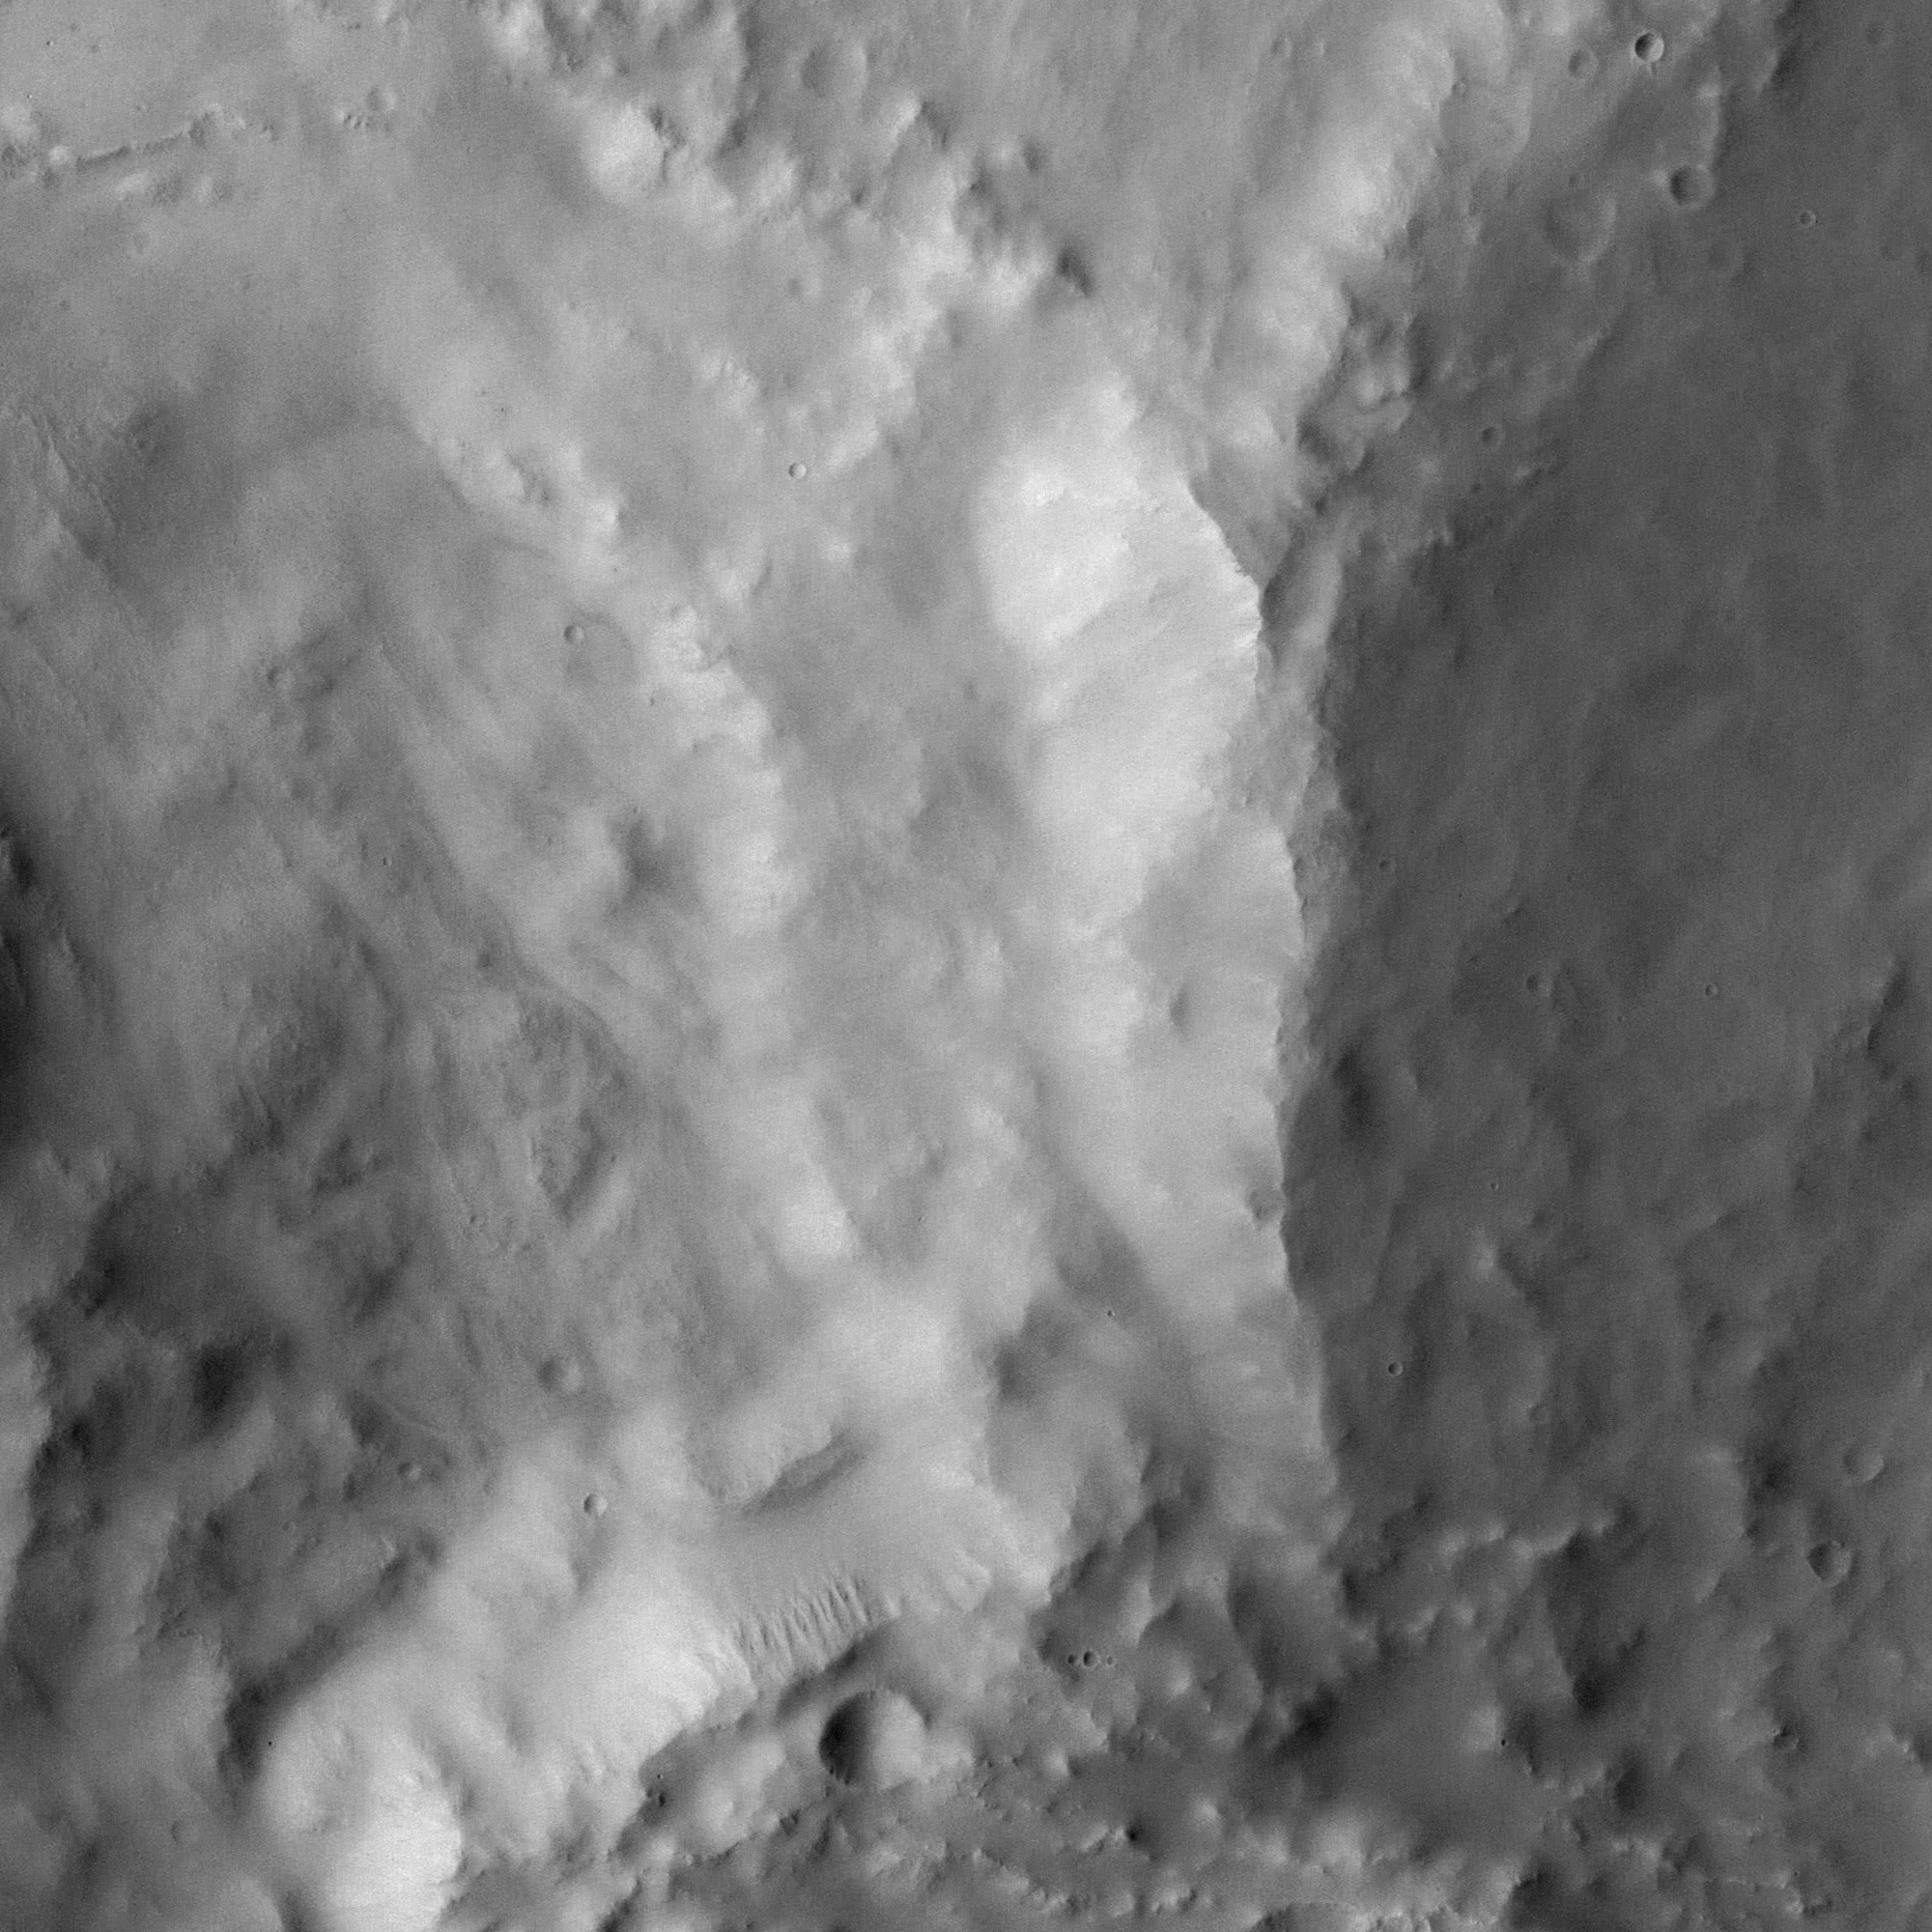crater: (819, 1686, 927, 1794), (1545, 188, 1612, 257), (801, 39, 865, 103), (1808, 1539, 1854, 1587), (186, 108, 230, 152), (1668, 165, 1713, 207), (538, 1355, 580, 1398), (1844, 1442, 1886, 1484), (1247, 1185, 1288, 1226), (1706, 239, 1741, 276), (787, 274, 821, 306), (1635, 30, 1667, 62), (1568, 50, 1599, 81), (1881, 237, 1913, 269), (669, 602, 699, 633), (1476, 172, 1506, 202), (364, 87, 393, 117), (1863, 18, 1891, 46), (961, 679, 987, 706), (1525, 973, 1552, 998), (170, 1819, 196, 1844), (267, 665, 292, 690), (133, 228, 156, 253), (1269, 37, 1293, 60), (1479, 425, 1502, 448), (584, 1493, 605, 1516), (1776, 1730, 1798, 1752), (133, 432, 154, 453), (398, 1461, 419, 1483), (1529, 1405, 1550, 1424), (564, 625, 584, 644), (1083, 1651, 1100, 1668), (791, 462, 807, 479), (1470, 479, 1486, 495), (69, 19, 85, 35), (1389, 1361, 1403, 1376), (1453, 81, 1467, 97), (1799, 211, 1813, 225), (1704, 982, 1718, 996), (1378, 858, 1392, 872), (281, 1520, 295, 1534), (469, 1214, 483, 1228), (651, 1794, 665, 1808), (1568, 172, 1582, 184), (1201, 207, 1214, 219), (1106, 1656, 1118, 1667), (58, 299, 69, 310), (90, 42, 101, 53), (1067, 1654, 1077, 1663), (1490, 1180, 1499, 1191), (610, 1155, 621, 1164), (646, 697, 655, 708), (382, 856, 391, 865), (1615, 1014, 1624, 1021), (138, 104, 145, 113), (1108, 1309, 1115, 1318), (656, 1767, 665, 1775), (1500, 1737, 1507, 1744), (1212, 1576, 1219, 1583), (173, 1226, 180, 1233), (656, 1773, 663, 1780), (633, 807, 640, 814), (357, 120, 364, 127), (260, 497, 267, 502), (269, 1741, 274, 1748), (46, 39, 51, 46), (548, 835, 554, 842), (918, 1215, 924, 1223), (1458, 893, 1465, 899), (1568, 876, 1573, 883), (11, 1667, 16, 1674), (27, 94, 32, 99), (1794, 1872, 1799, 1877), (1815, 219, 1821, 225), (71, 19, 76, 25), (1773, 1729, 1778, 1734), (501, 407, 504, 412), (1412, 830, 1415, 835), (614, 568, 619, 571), (1545, 1088, 1548, 1092), (147, 504, 150, 508)
